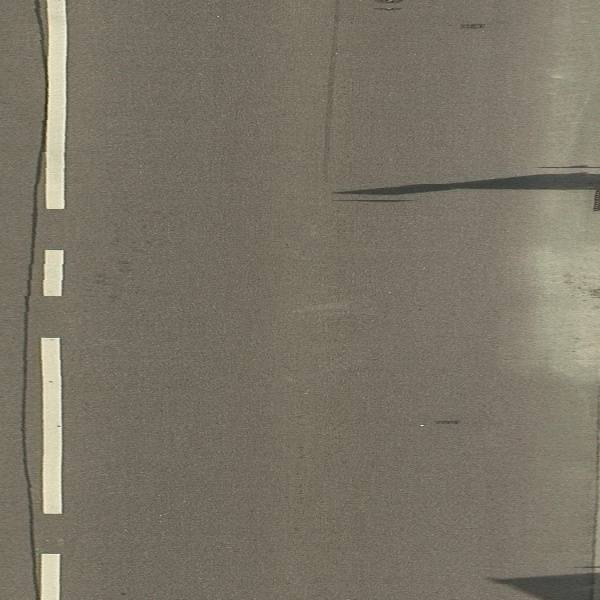road_damage: (432, 414, 469, 428), (458, 20, 491, 30)
